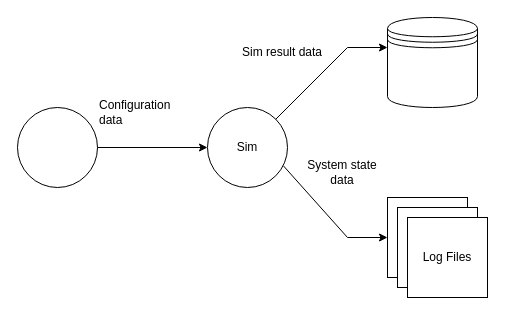
This 505x315 diagram has some shape labels left out. The box of each missing label's shape, as (x1, y1, x2, y2) in pixels:
Controller: (16, 106, 98, 188)
Database: (386, 16, 478, 108)
